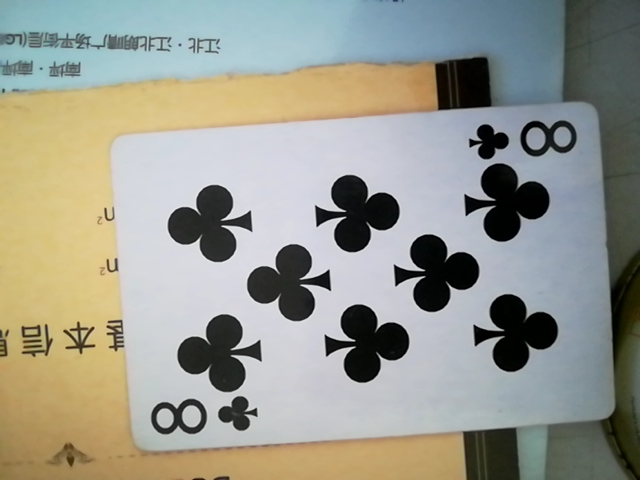mh 8: (110, 105, 614, 464)
